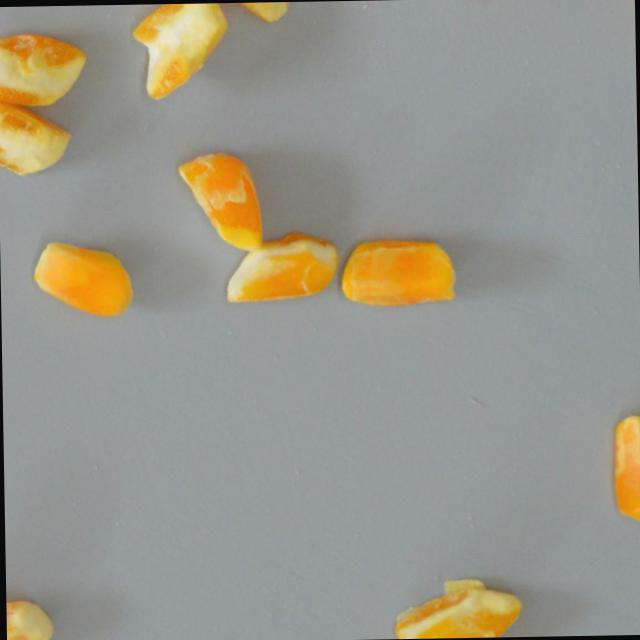estandar: (179, 0, 301, 23)
pelicula: (131, 2, 230, 100), (175, 148, 266, 252), (391, 576, 523, 639), (340, 238, 458, 308), (225, 233, 339, 304), (33, 240, 133, 318), (0, 31, 85, 109), (0, 94, 71, 178), (607, 410, 640, 527), (5, 598, 53, 640)
